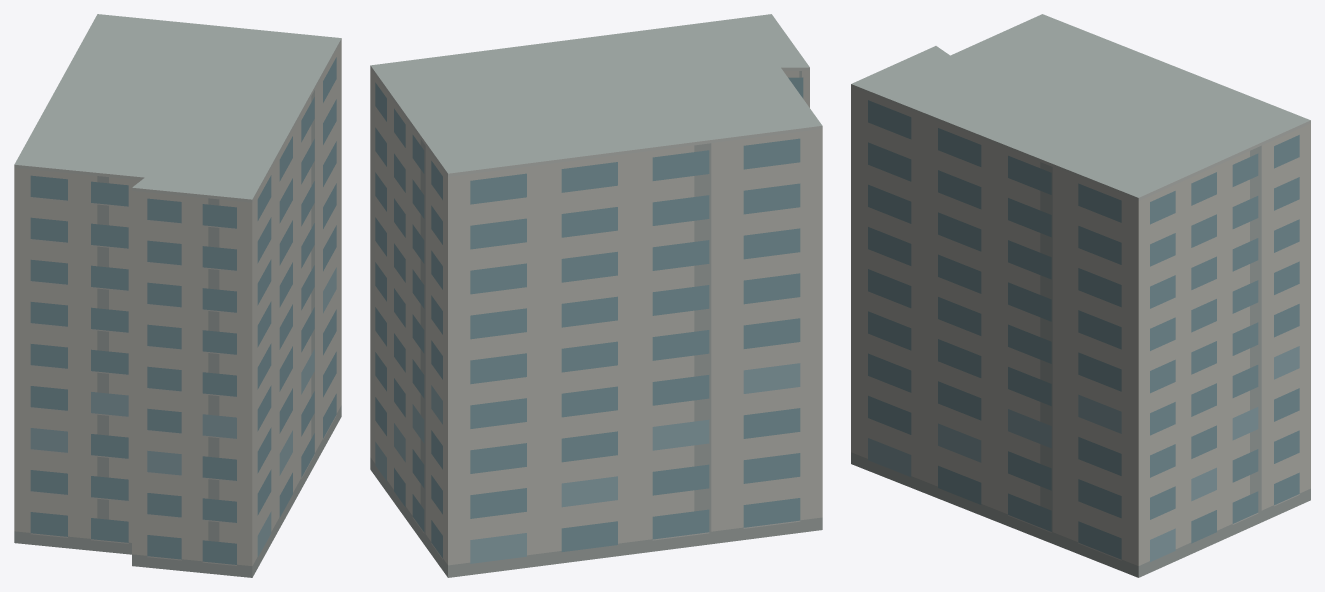
File: residential-6f7b4be6-9a69-482f-917c-7c8e84bd918f.glb
3 renders of one model, left to right at view 1: azimuth 30°, elevation 25°; view 2: azimuth 150°, elevation 25°; view 3: azimuth 270°, elevation 25°, orthographic. The views are drawn at different scales.
Visible parts, largest first — view 1: residential-6f7b4be6-9a69-482f-917c-7c8e84bd918f.tmp; view 2: residential-6f7b4be6-9a69-482f-917c-7c8e84bd918f.tmp; view 3: residential-6f7b4be6-9a69-482f-917c-7c8e84bd918f.tmp.
Part boxes in pixels (x1,y1,x2,y2): residential-6f7b4be6-9a69-482f-917c-7c8e84bd918f.tmp: [14, 14, 341, 577]; residential-6f7b4be6-9a69-482f-917c-7c8e84bd918f.tmp: [370, 14, 822, 577]; residential-6f7b4be6-9a69-482f-917c-7c8e84bd918f.tmp: [851, 14, 1310, 577].
Size of the model in its own units: 31.15 by 30 by 32.9.
